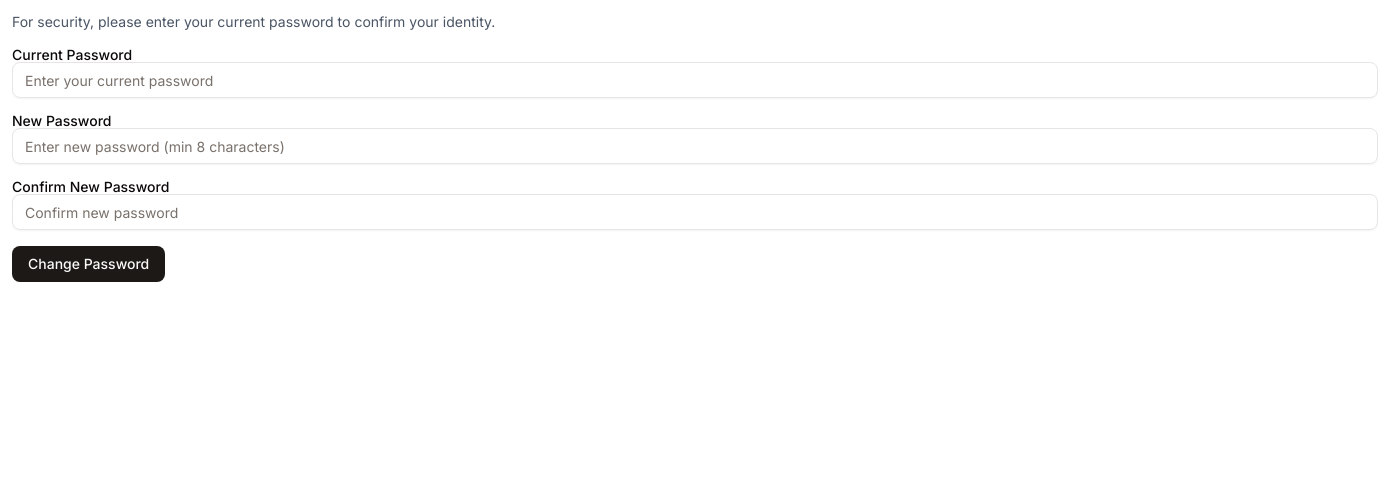
Test: PasswordChangeForm › validates password strength requirements
This screenshot has width=1390, height=485.
Note: Weak password
Type "weak" into the password field labelled "New Password" at (695, 146), box [12, 128, 1378, 164]
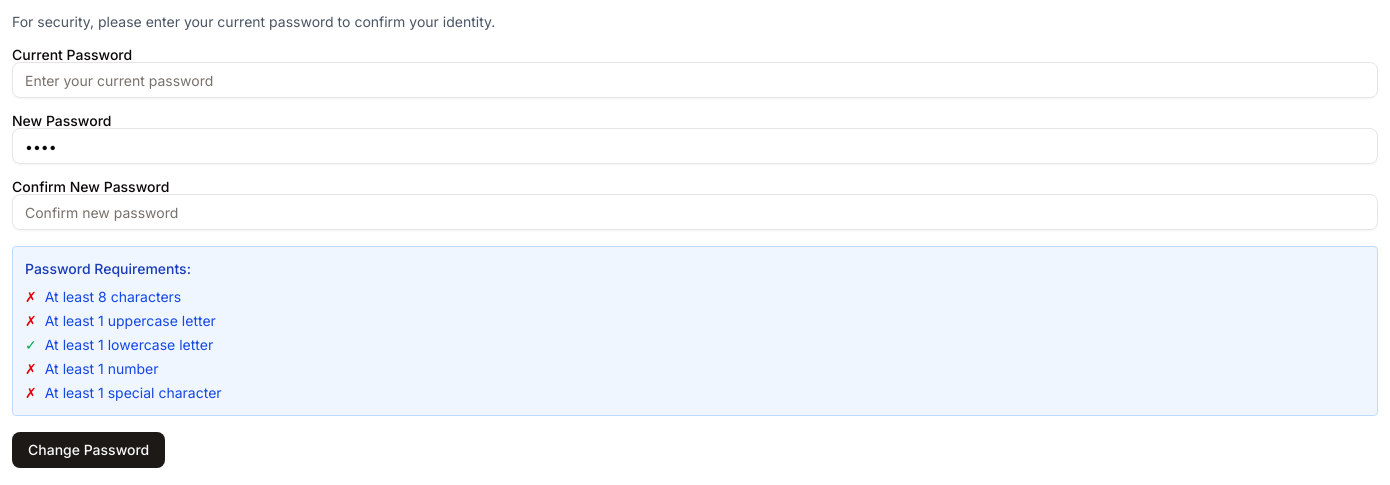
Expected: the text "✗" next to "At least 8 characters" is shown, [25, 288, 37, 305]
Note: Strong password
Type "Strong123!" into the password field labelled "New Password" at (695, 146), box [12, 128, 1378, 164]
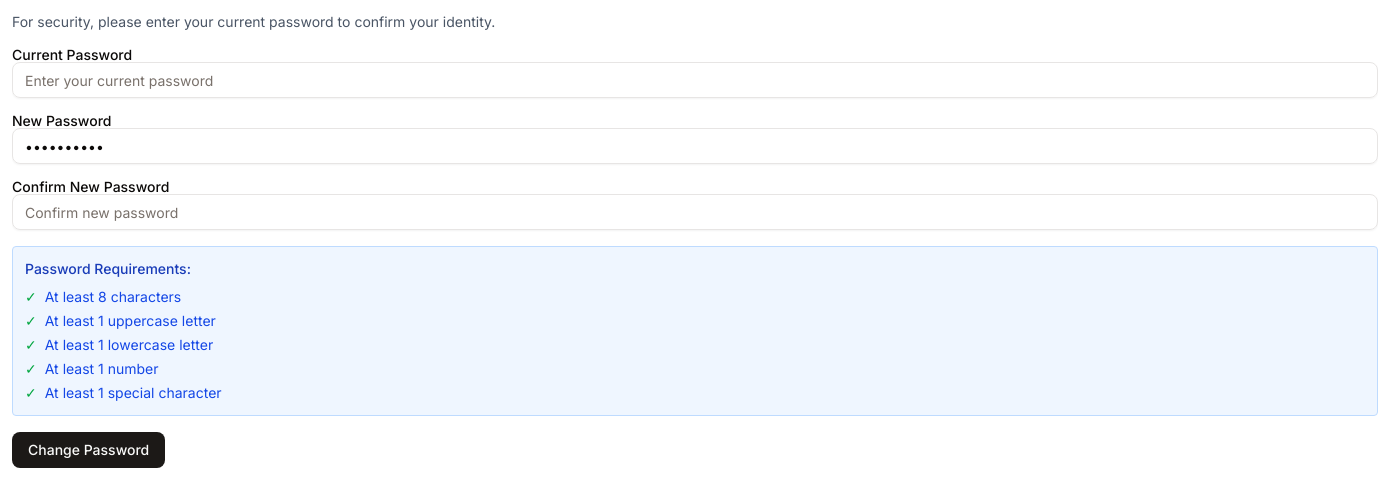
Expected: the text "✓" is shown 5 times, [25, 287, 37, 307]; [25, 311, 37, 331]; [25, 335, 37, 355]; [25, 359, 37, 379]; [25, 383, 37, 403]
